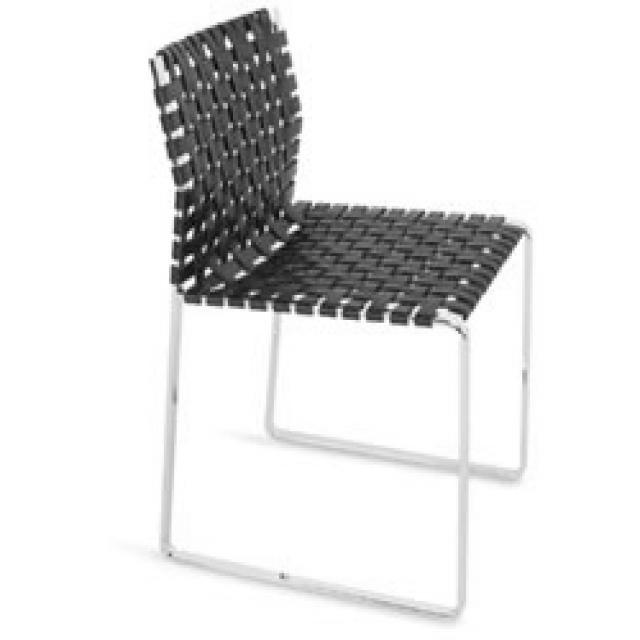chair: (147, 9, 539, 622)
